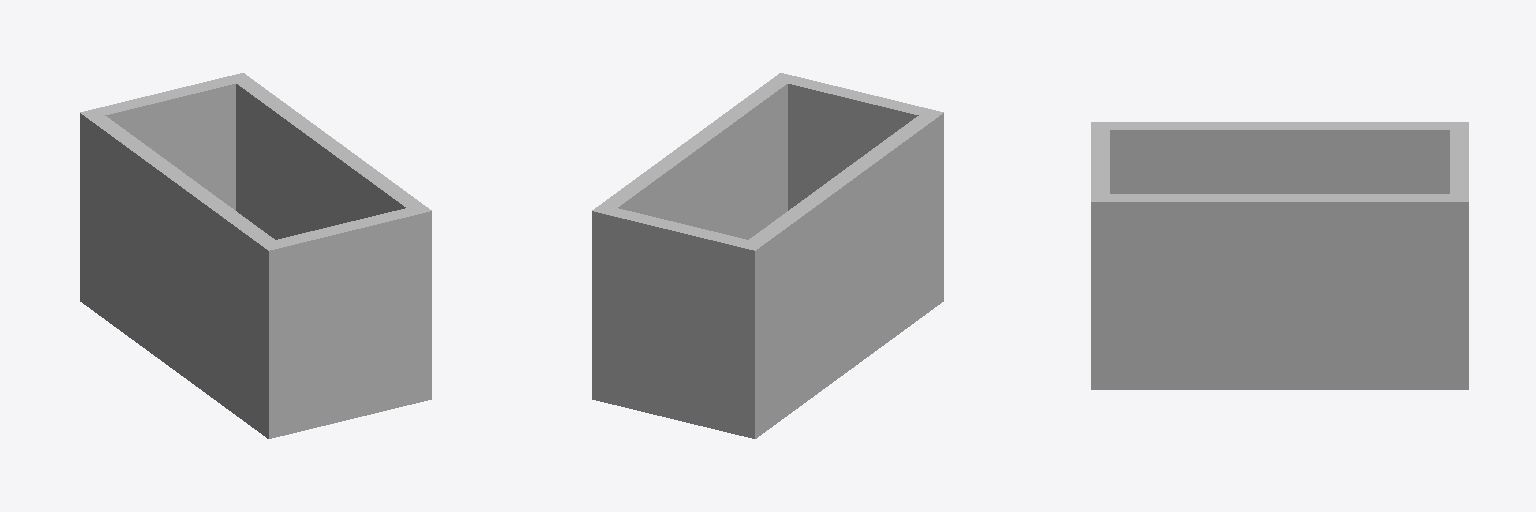
Rendered from swimmingpool.obj.
3 renders of one model, left to right at view 1: azimuth 30°, elevation 25°; view 2: azimuth 150°, elevation 25°; view 3: azimuth 270°, elevation 25°, orthographic.
Visible parts, largest first — view 1: Swimming_Pool; view 2: Swimming_Pool; view 3: Swimming_Pool.
Part boxes in pixels (x1,y1,x2,y2): Swimming_Pool: (80,73,431,438); Swimming_Pool: (592,73,943,438); Swimming_Pool: (1091,122,1468,389).
Bounding box in the file's own units: 10 × 11 × 20.